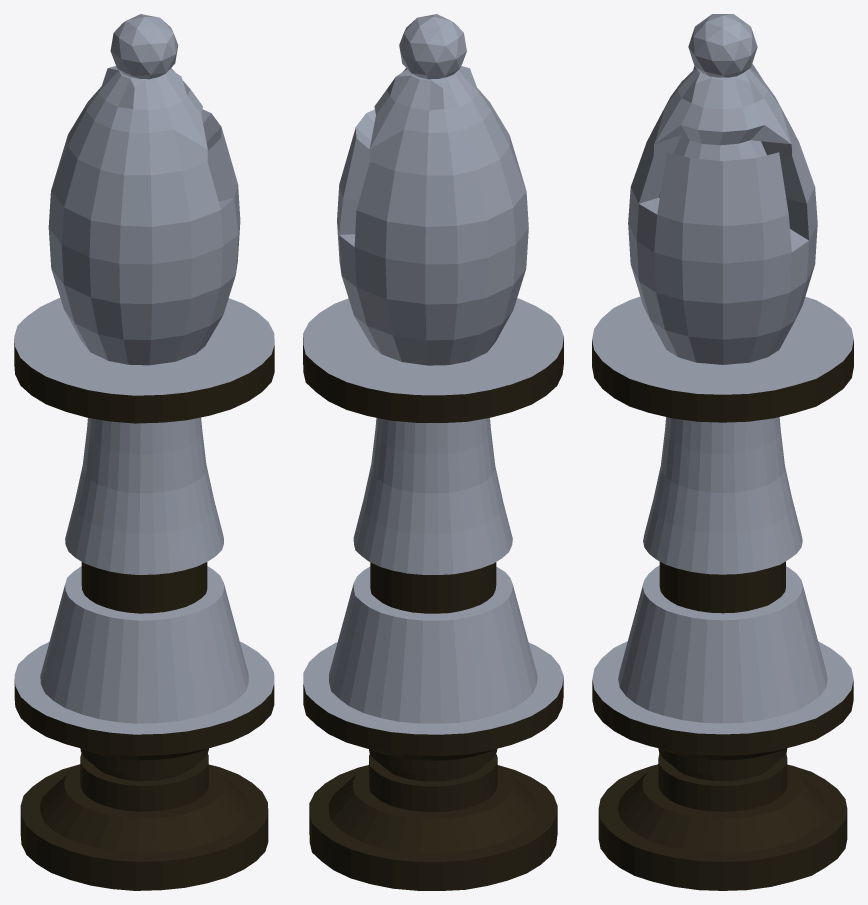
File: metal_b_w.glb
3 views of the same model, side by side, from view 1: azimuth 30°, elevation 25°; view 2: azimuth 150°, elevation 25°; view 3: azimuth 270°, elevation 25° (orthographic).
Visible parts, largest first — view 1: b1, b0; view 2: b1, b0; view 3: b1, b0.
Part boxes in pixels (x1,y1,x2,y2): b1: (14, 14, 274, 734); b0: (14, 339, 274, 890); b1: (303, 14, 563, 734); b0: (303, 337, 563, 890); b1: (592, 14, 853, 734); b0: (592, 340, 853, 890).
Size of the model in its own units: 0.2595 by 0.9 by 0.2595.
